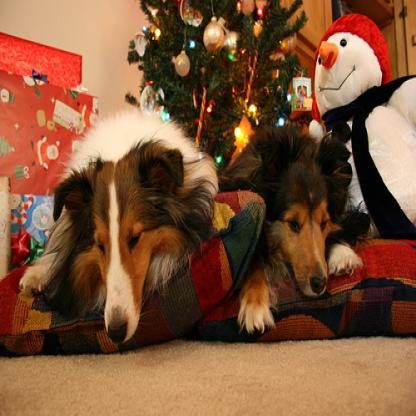Shetland_sheepdog: (17, 104, 219, 343), (226, 118, 361, 332)
